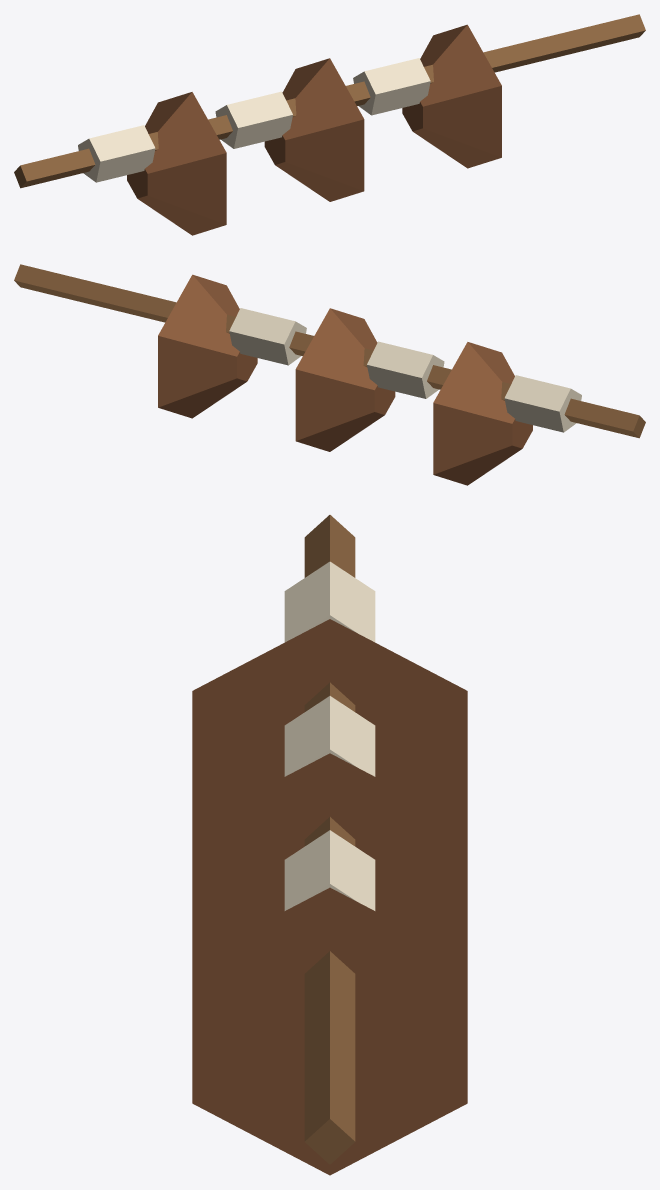
File: roasted_mushroom.glb
3 views of the same model, one above another, from view 1: azimuth 30°, elevation 25°; view 2: azimuth 150°, elevation 25°; view 3: azimuth 270°, elevation 25° (orthographic). The views are drawn at different scales.
Parts seen in each view (by area): view 1: roasted_mushroom; view 2: roasted_mushroom; view 3: roasted_mushroom.
Boxes of the visible parts, x1,y1,x2,y2 form: roasted_mushroom: (14,14,645,235); roasted_mushroom: (14,264,645,485); roasted_mushroom: (192,515,467,1175).
Bounding box in the file's own units: 0.45 × 0.1 × 0.0866.
